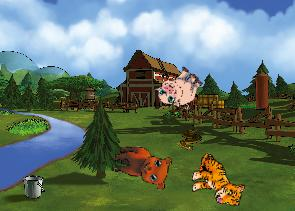bear: (111, 145, 172, 190)
pig: (152, 60, 207, 116)
tiger: (186, 151, 250, 209)
